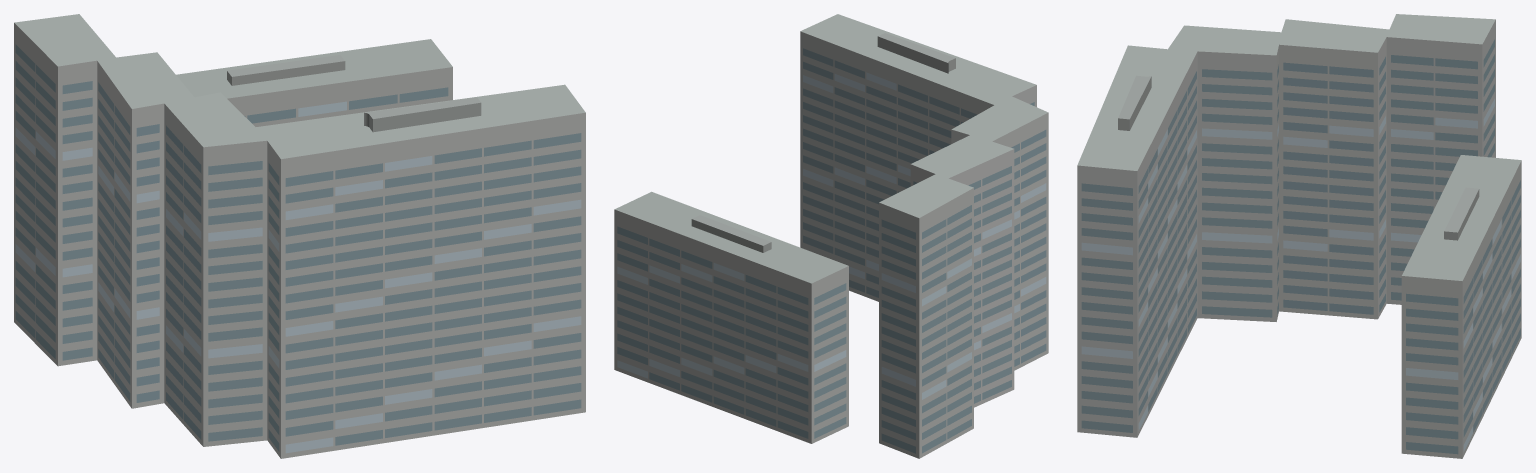
Rendered from apt-a15009504.glb.
3 views of the same model, side by side, from view 1: azimuth 30°, elevation 25°; view 2: azimuth 150°, elevation 25°; view 3: azimuth 270°, elevation 25° (orthographic). The views are drawn at different scales.
Visible parts, largest first — view 1: apt-a15009504; view 2: apt-a15009504; view 3: apt-a15009504.
Boxes of the visible parts, x1,y1,x2,y2 form: apt-a15009504: (14,14,585,458); apt-a15009504: (614,14,1048,458); apt-a15009504: (1077,14,1521,458).
Size of the model in its own units: 78.7 by 57.3 by 82.91.
